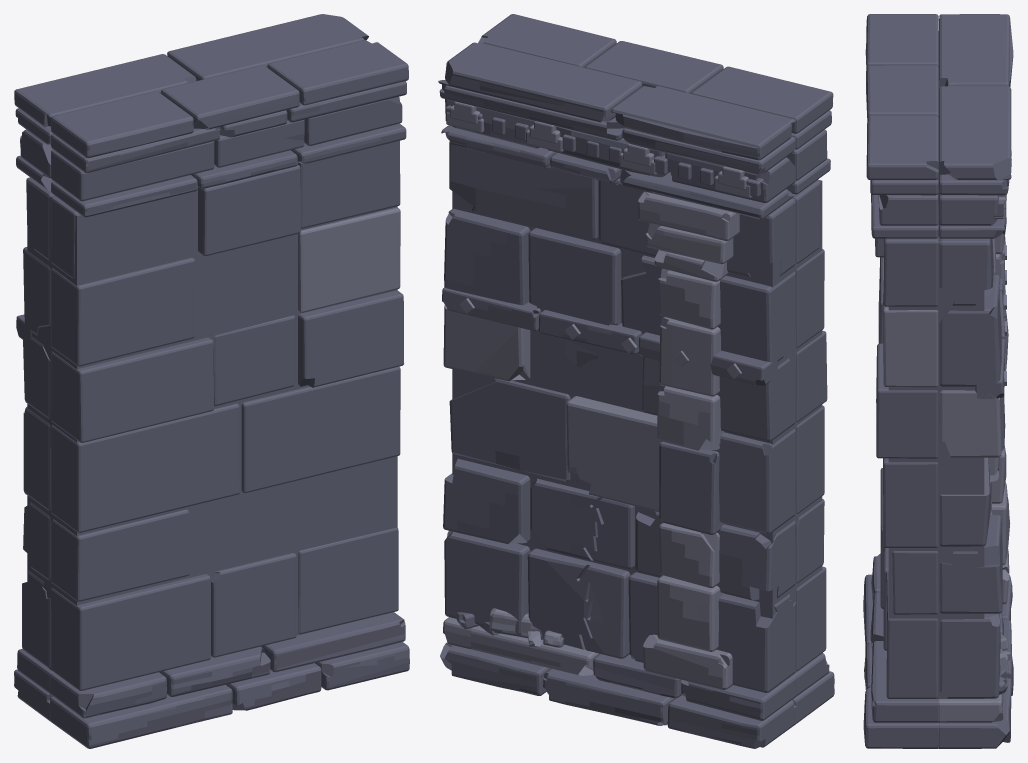
Rendered from SM_Cripta_Parede.glb.
3 views of the same model, side by side, from view 1: azimuth 30°, elevation 25°; view 2: azimuth 150°, elevation 25°; view 3: azimuth 270°, elevation 25° (orthographic). The views are drawn at different scales.
Visible parts, largest first — view 1: SM_Cripta_Parede; view 2: SM_Cripta_Parede; view 3: SM_Cripta_Parede.
Part boxes in pixels (x1,y1,x2,y2): SM_Cripta_Parede: (14, 14, 409, 748); SM_Cripta_Parede: (438, 14, 834, 748); SM_Cripta_Parede: (863, 14, 1013, 748).
Size of what is drawn, in the model's own units: 3 by 5.39 by 1.25.
